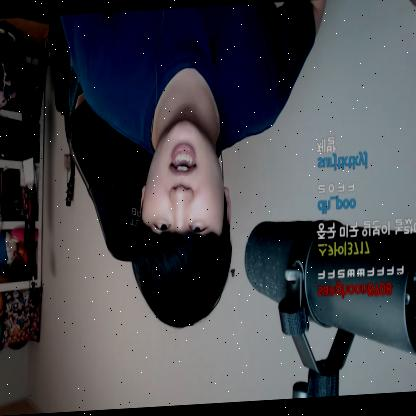streamer: (59, 5, 327, 337)
